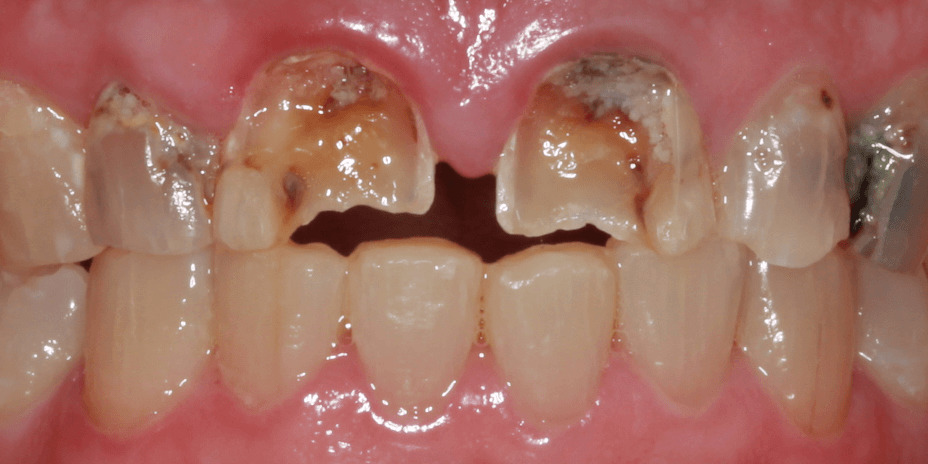karies: (513, 33, 687, 232), (248, 45, 426, 219), (80, 80, 216, 186), (838, 98, 911, 256), (813, 79, 839, 119)
